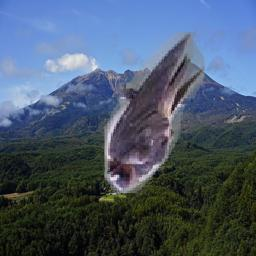Swallow: (103, 33, 206, 194)
